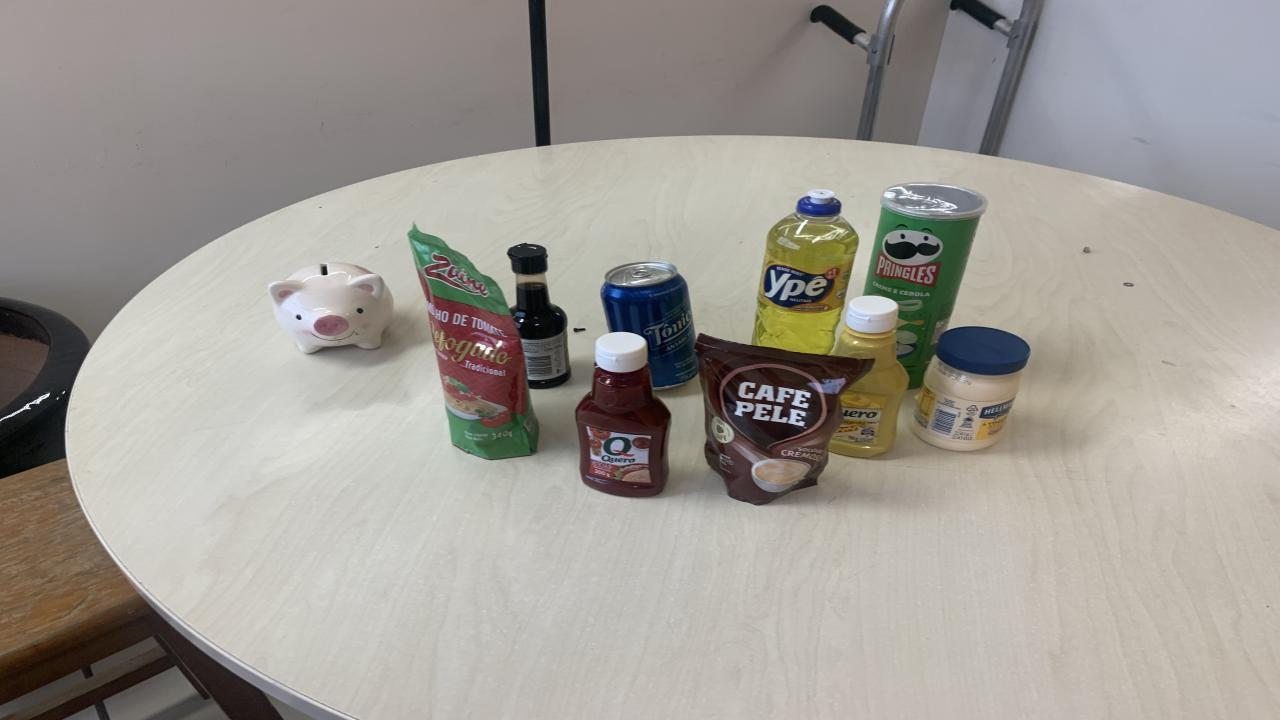Coffee-Pantry_Items: (695, 334, 872, 504)
Detergent-Cleanup_Items: (752, 189, 858, 352)
English_Sauce-Pantry_Items: (508, 244, 570, 388)
Ketchup-Pantry_Items: (575, 332, 670, 497)
Mayonnaise-Pantry_Items: (912, 326, 1030, 452)
Mustard-Pantry_Items: (830, 294, 910, 458)
Pig_Safe-Miscellaneous: (268, 262, 392, 352)
Pringles-Snacks: (865, 182, 988, 388)
Tomato_Sauce-Pantry_Items: (408, 225, 538, 459)
Tonic-Drinks: (600, 261, 698, 388)
